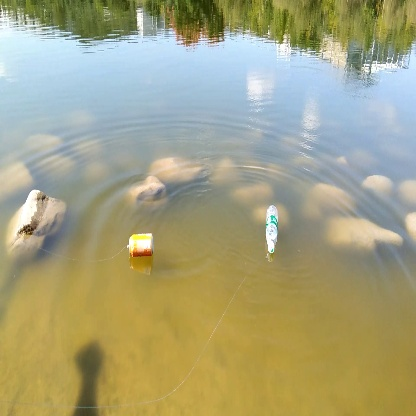bottle: (122, 229, 161, 264)
